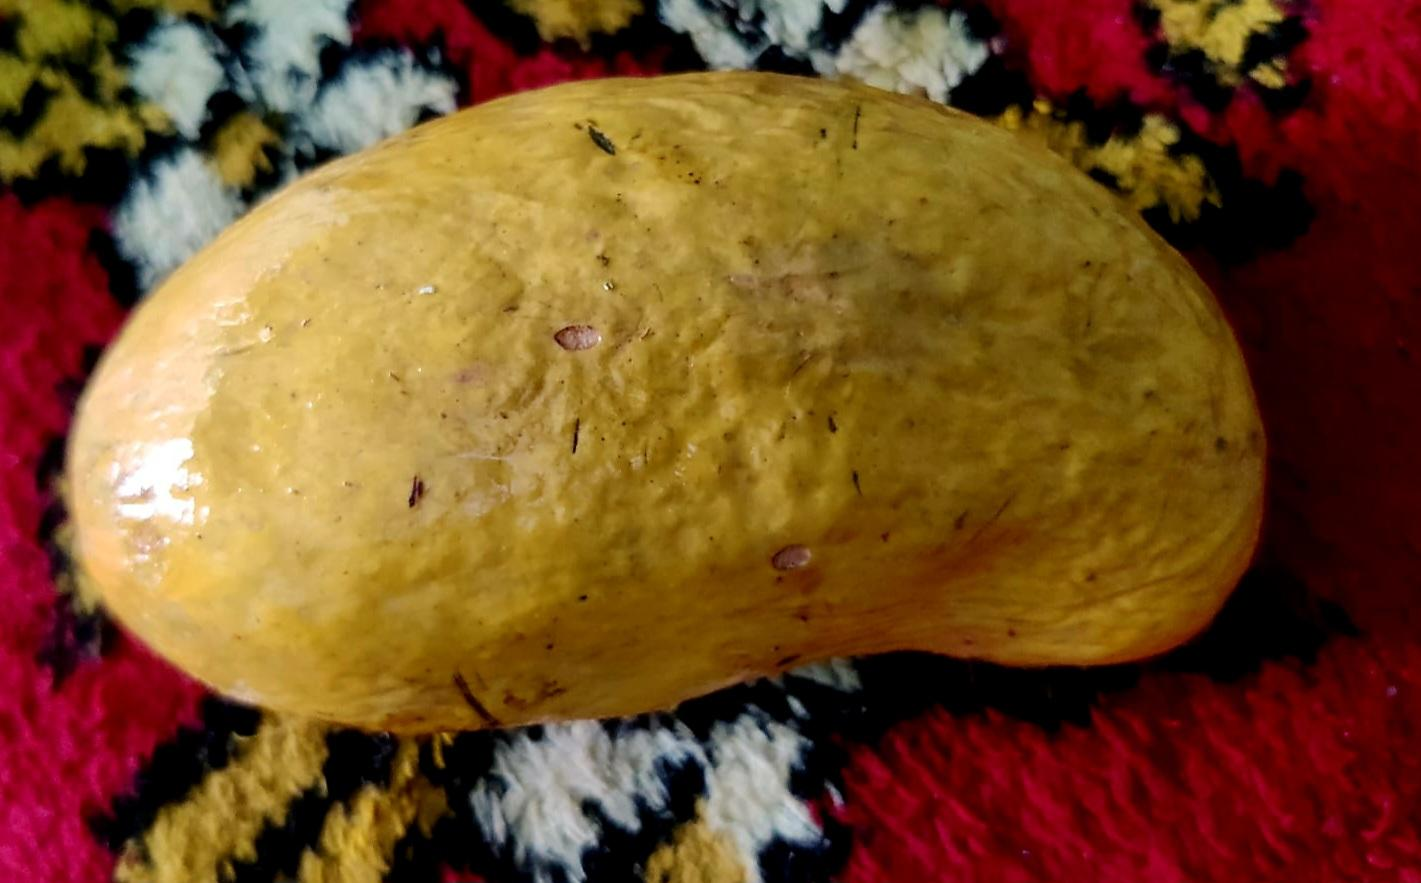mango: (59, 68, 1268, 737)
